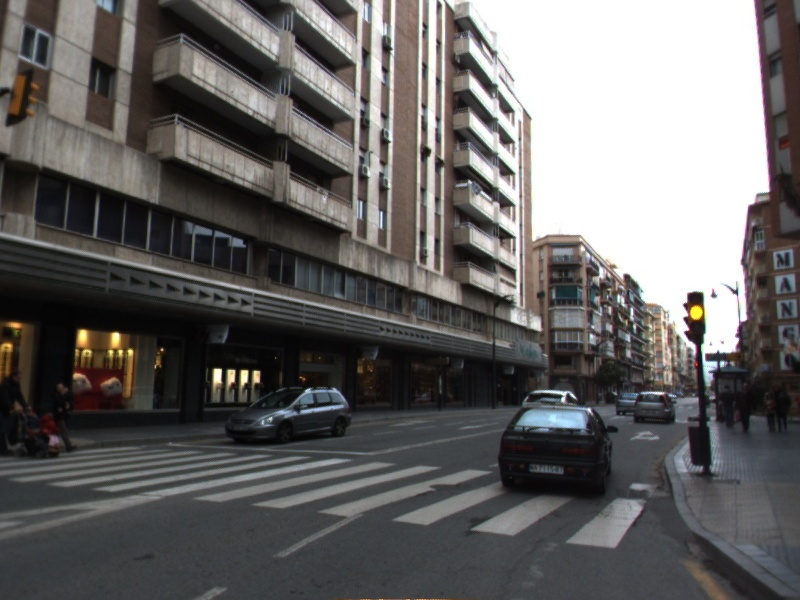STRAIGHT_RIGHT: (628, 428, 661, 443)
